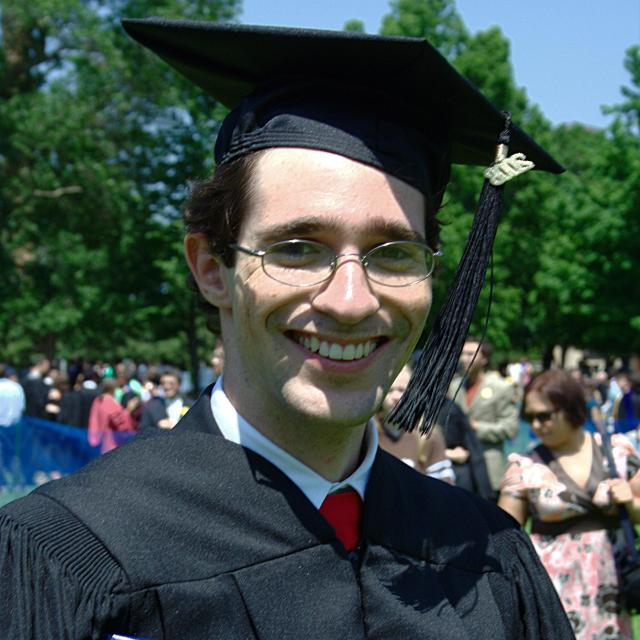no-glass: (268, 238, 416, 260)
